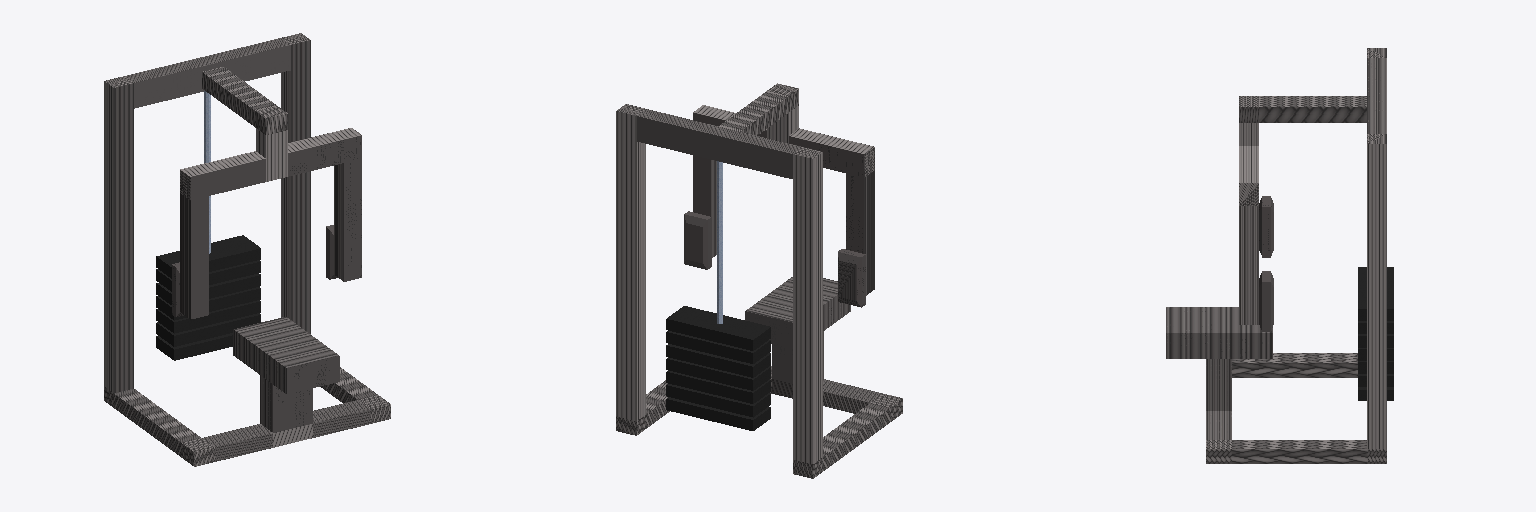
3 views of the same model, side by side, from view 1: azimuth 30°, elevation 25°; view 2: azimuth 150°, elevation 25°; view 3: azimuth 270°, elevation 25° (orthographic).
Parts seen in each view (by area): view 1: Box001, Box009, Box002, Box006, Box007, Box008, Box005, Box004, Box003, Cylinder001; view 2: Box001, Box009, Box002, Box008, Box004, Box007, Box003, Box005, Box006, Cylinder001; view 3: Box001, Box009, Box002.
Boxes of the visible parts, box(x1,y1,x2,y2) form: Box001: box(104, 33, 390, 466); Box009: box(172, 67, 361, 319); Box002: box(156, 235, 260, 278); Box006: box(156, 300, 260, 333); Box007: box(156, 313, 260, 346); Box008: box(156, 333, 232, 360); Box005: box(156, 287, 260, 320); Box004: box(156, 273, 260, 304); Box003: box(156, 260, 260, 291); Cylinder001: box(204, 91, 210, 253); Box001: box(616, 104, 902, 478); Box009: box(684, 83, 874, 307); Box002: box(666, 306, 770, 350); Box008: box(666, 397, 770, 430); Box004: box(666, 344, 770, 377); Box007: box(666, 384, 770, 417); Box003: box(666, 331, 770, 363); Box005: box(666, 357, 770, 390); Box006: box(666, 370, 770, 403); Cylinder001: box(717, 161, 722, 323); Box001: box(1166, 48, 1386, 463); Box009: box(1239, 96, 1366, 331); Box002: box(1358, 267, 1393, 320).
Bounding box in the file's own units: 101 × 156 × 101.
3 materials, 3 textured.